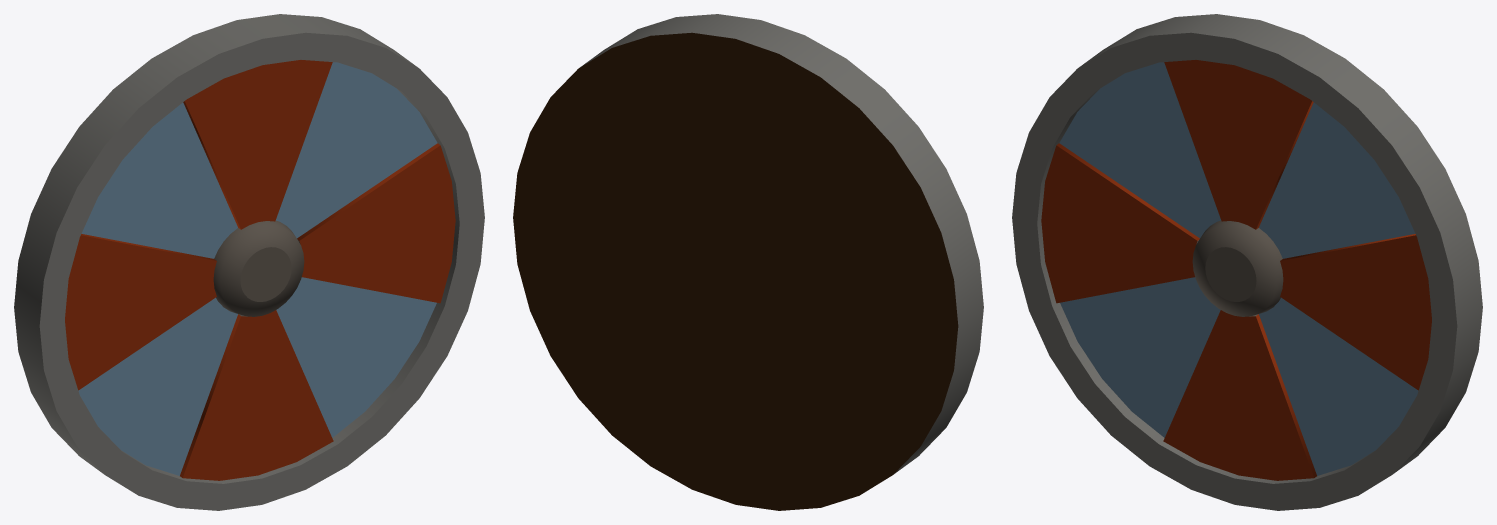
The model's file is SM_Shield.fbx.
3 views of the same model, side by side, from view 1: azimuth 30°, elevation 25°; view 2: azimuth 150°, elevation 25°; view 3: azimuth 330°, elevation 25° (orthographic).
Parts seen in each view (by area): view 1: SM_Shield; view 2: SM_Shield; view 3: SM_Shield.
Boxes of the visible parts, x1,y1,x2,y2 form: SM_Shield: (14, 14, 484, 510); SM_Shield: (513, 14, 983, 510); SM_Shield: (1012, 14, 1482, 510).
Bounding box in the file's own units: 0.9569 × 0.9569 × 0.1094.
